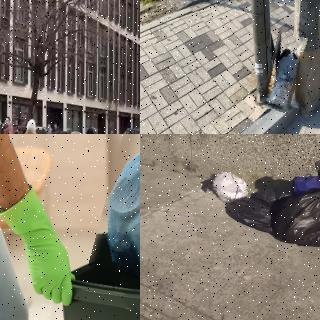Garbage: (101, 134, 140, 293), (274, 161, 320, 247), (264, 32, 304, 113), (229, 192, 290, 233), (207, 170, 253, 206)
